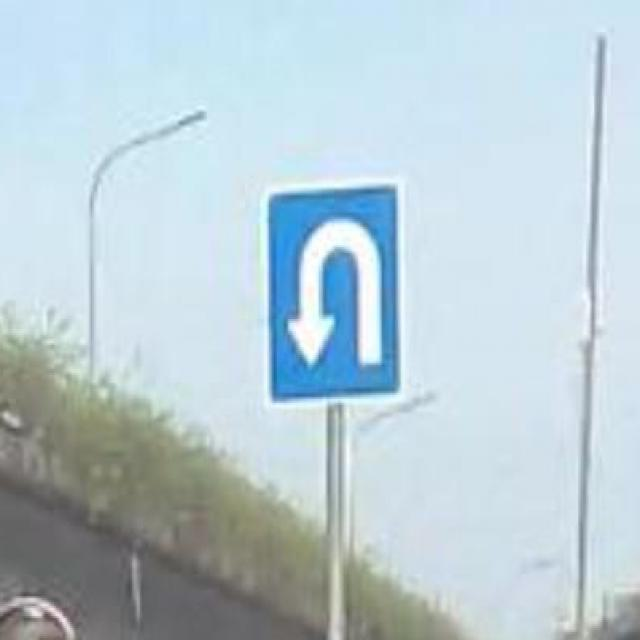U-turn: (260, 183, 405, 403)
